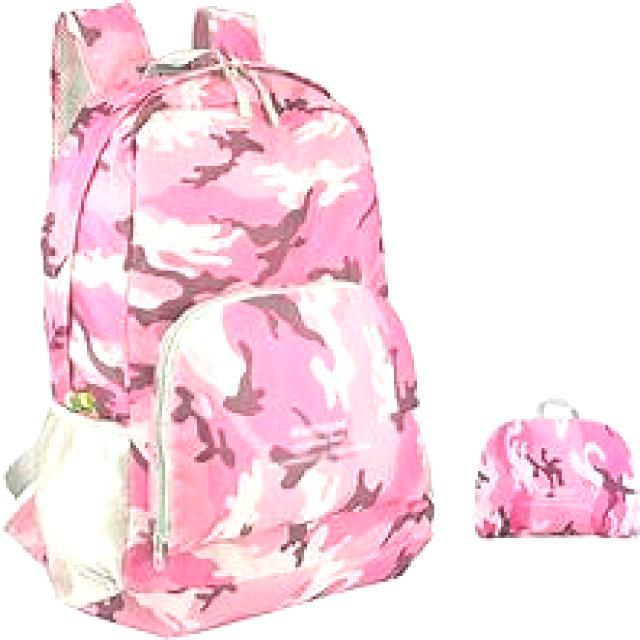backpack: (1, 1, 435, 638)
